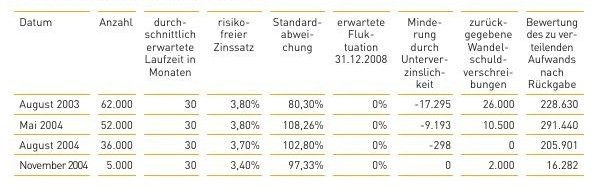table: (0, 0, 605, 188)
